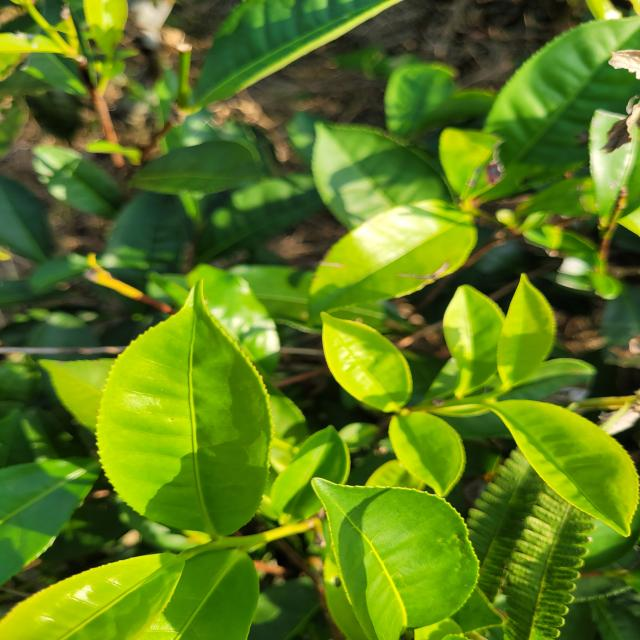Category B(2-4 days): (70, 262, 299, 569)
